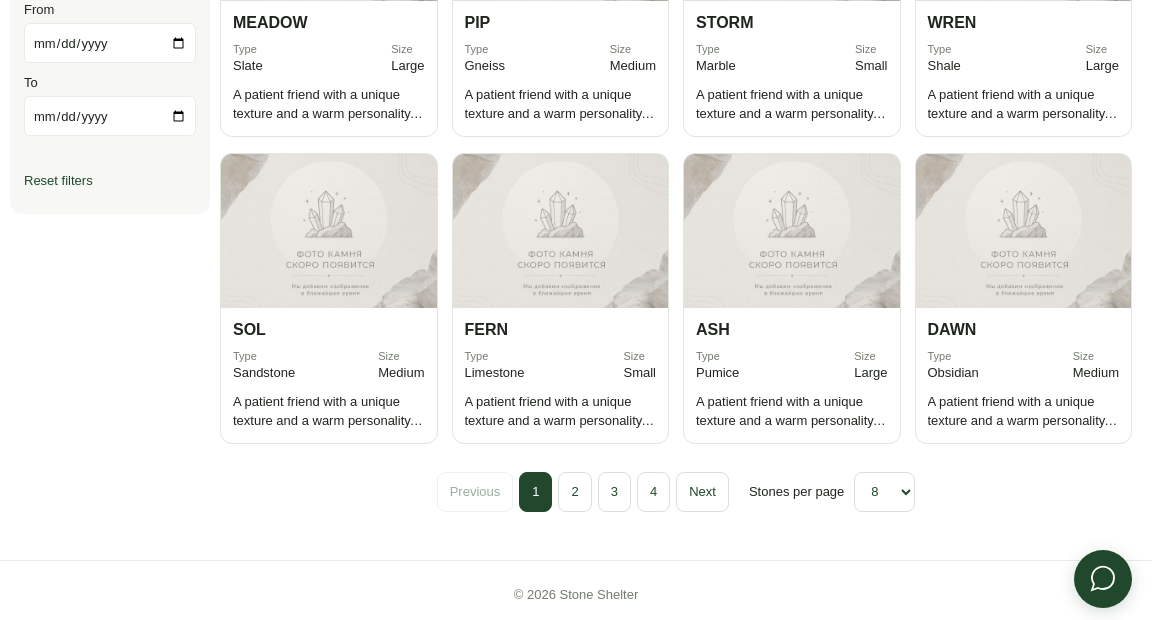
it: changes page size to 24 and resets to the first page
(page scrolled)
Click the button named "Page 3" at (614, 492), box [598, 472, 631, 512]
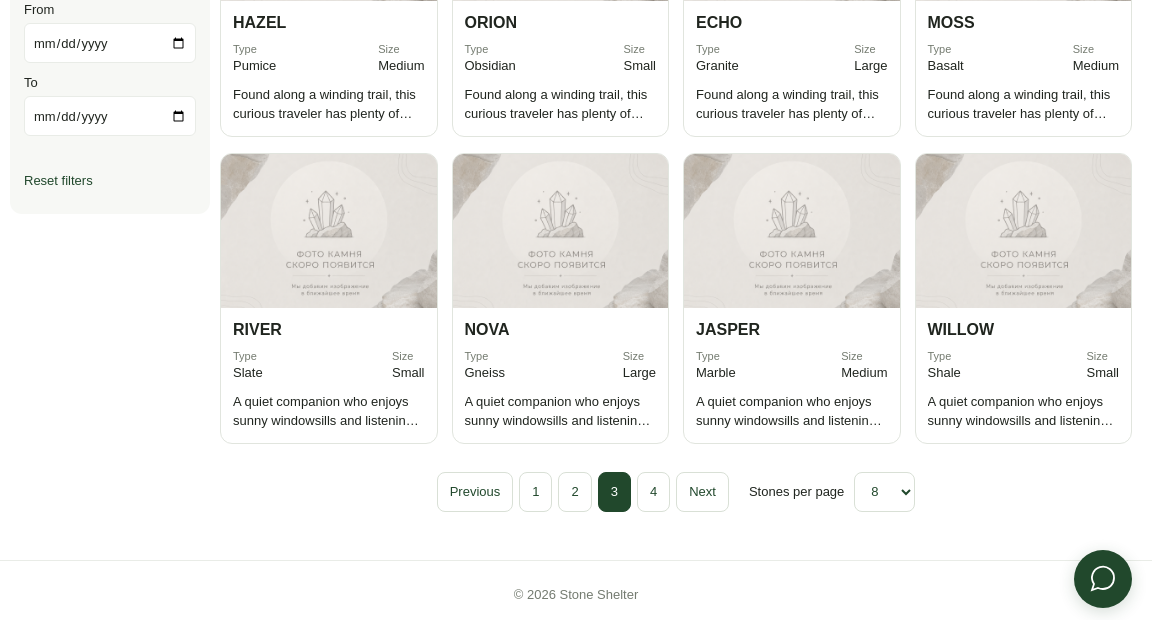
Select "24" in the dropdown labelled "Stones per page" at (885, 492), box [854, 472, 915, 512]
(page scrolled)
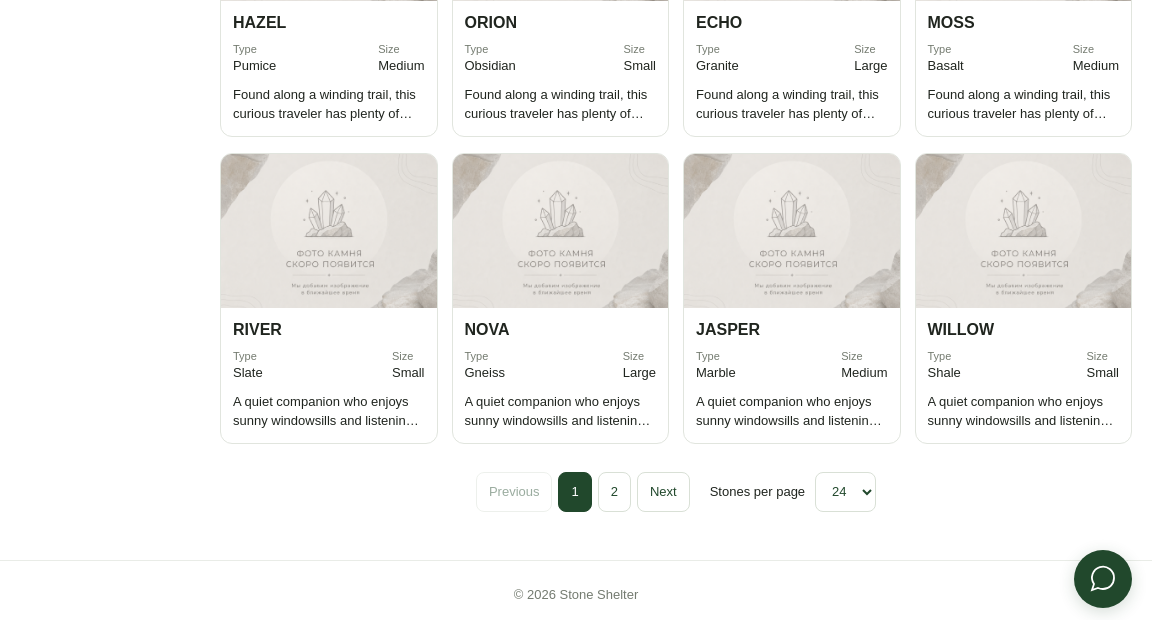
Click the button "Next" at (663, 492), box [637, 472, 690, 512]
(page scrolled)
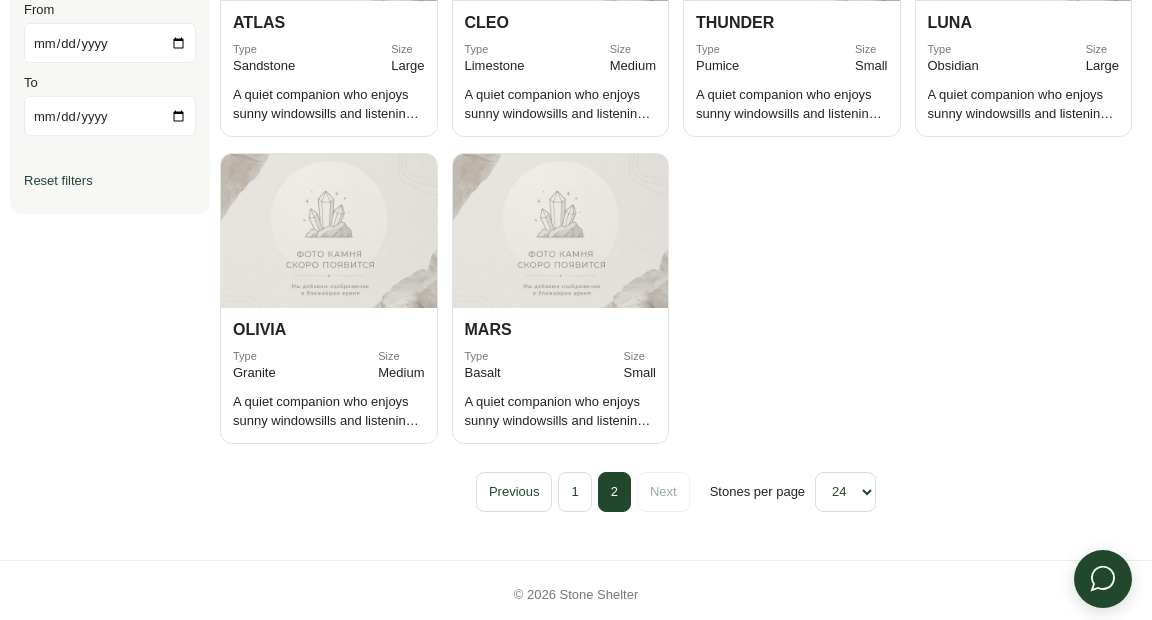
Select "12" in the dropdown labelled "Stones per page" at (846, 492), box [815, 472, 876, 512]
(page scrolled)
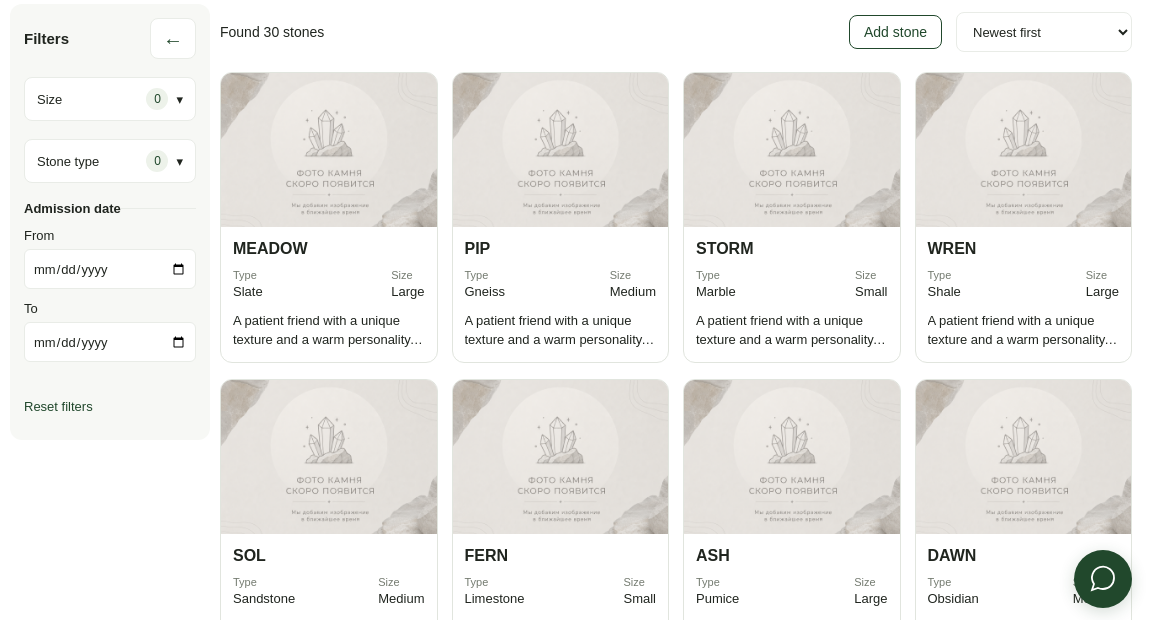
Expected: the heading "Meadow" is shown, [233, 240, 308, 257]
